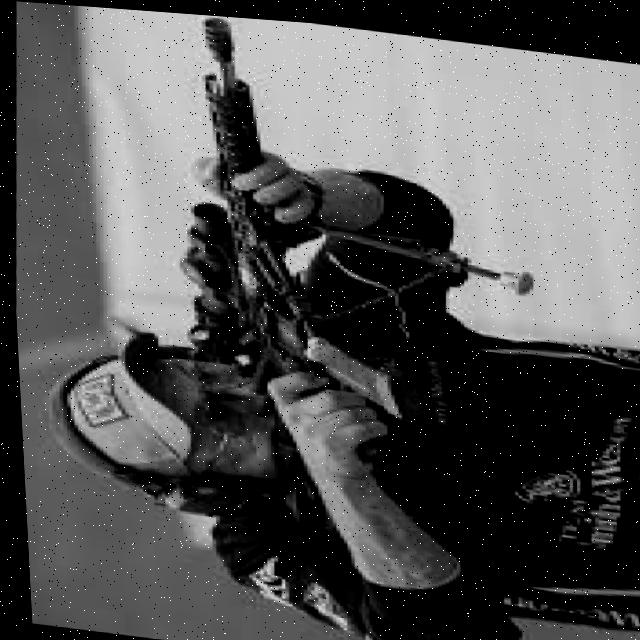firearm: (157, 9, 443, 529)
